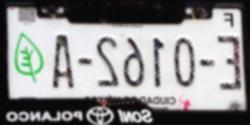License_Plate: (4, 4, 250, 119)
